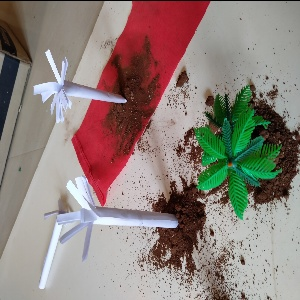plant: (184, 84, 276, 207)
weed: (56, 177, 185, 248), (32, 46, 139, 125)
